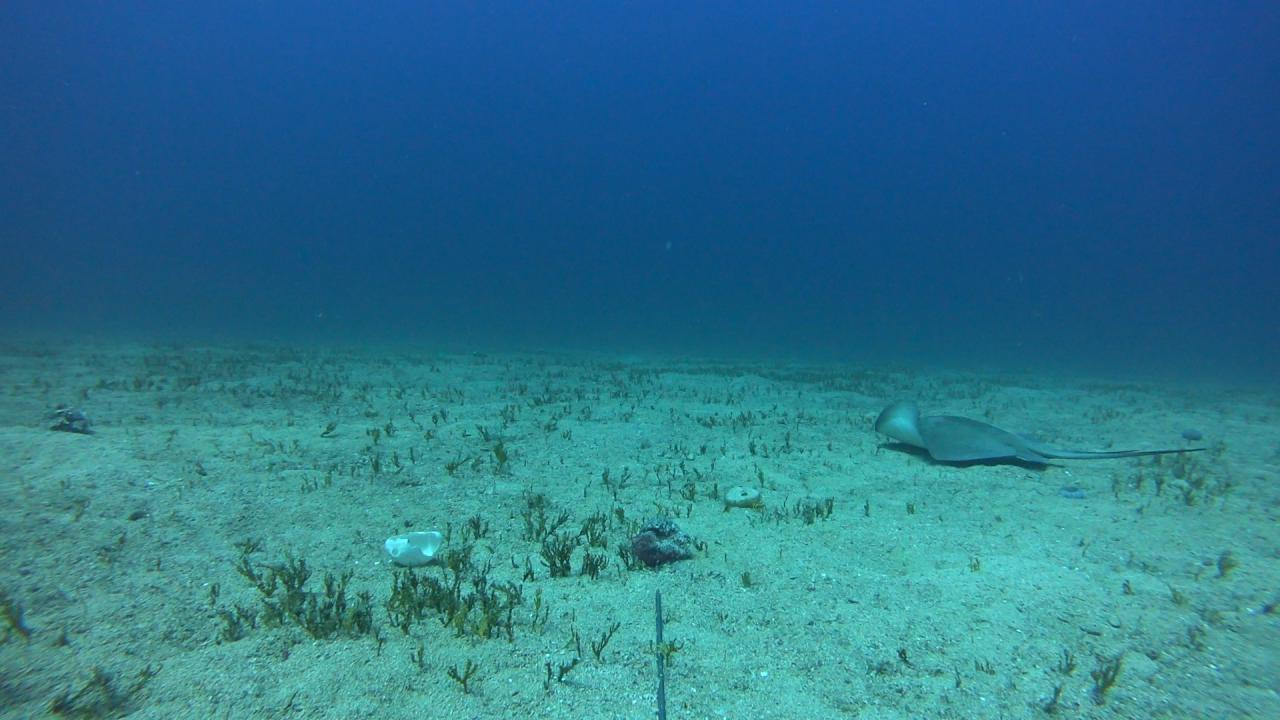dasyatis: (872, 398, 1205, 461)
